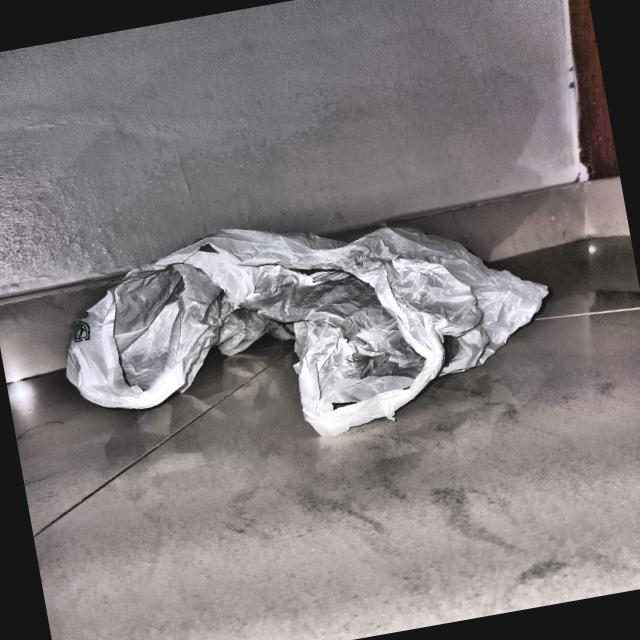plastic bag: (51, 195, 566, 472)
